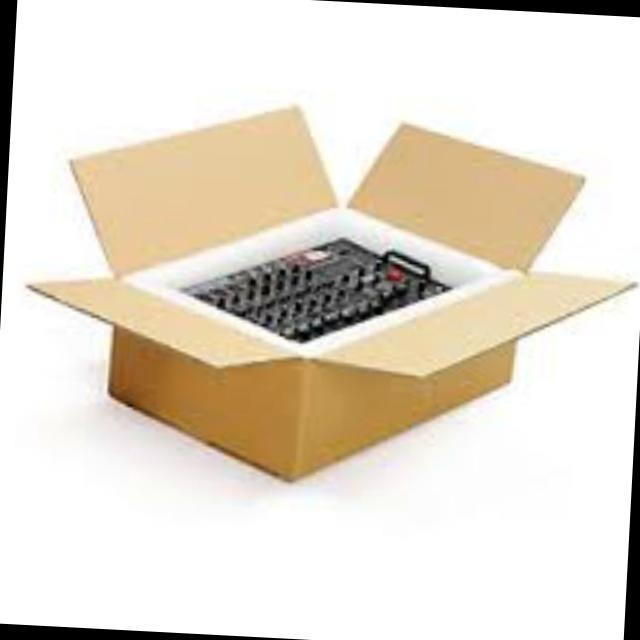cardboard paper: (28, 103, 625, 473)
